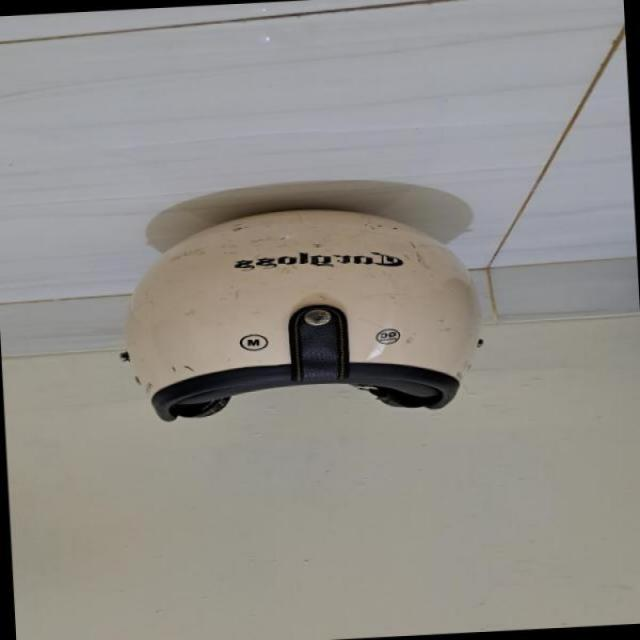Helmet: (121, 224, 492, 421)
